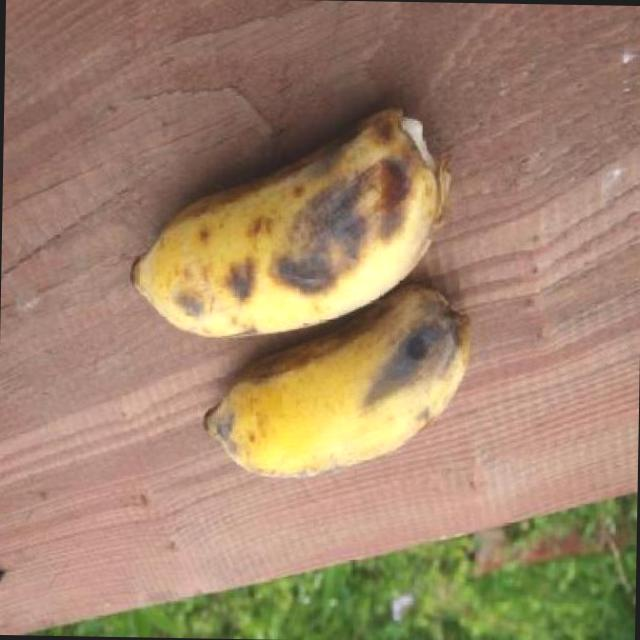Banana: (126, 97, 453, 340), (201, 284, 475, 475)
